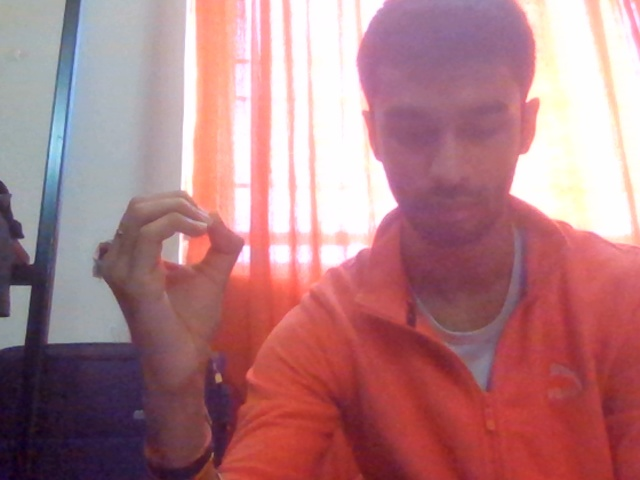O: (78, 170, 312, 443)
